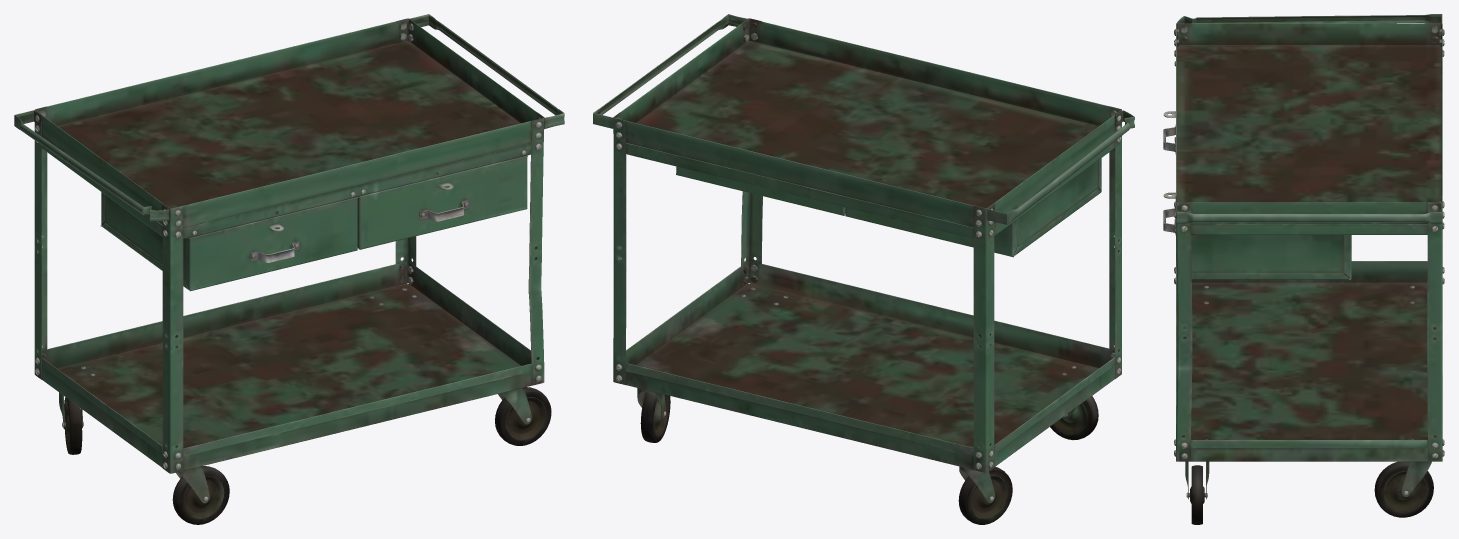
File: tool_cart.glb
3 renders of one model, left to right at view 1: azimuth 30°, elevation 25°; view 2: azimuth 150°, elevation 25°; view 3: azimuth 270°, elevation 25°, orthographic. The views are drawn at different scales.
Visible parts, largest first — view 1: tool_cart; view 2: tool_cart; view 3: tool_cart.
Boxes of the visible parts, x1,y1,x2,y2 form: tool_cart: (14,14,564,524); tool_cart: (593,14,1134,524); tool_cart: (1163,14,1444,524).
Size of the model in its own units: 1.27 by 0.9647 by 0.7537.
1 material, 1 textured.
